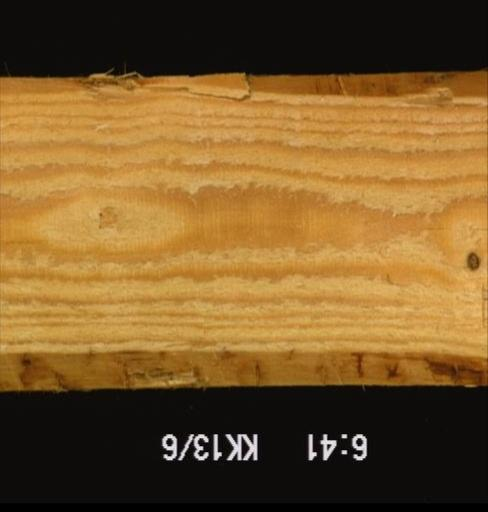dry_knot: (462, 249, 483, 274)
wave: (0, 343, 485, 391), (44, 68, 485, 118)
